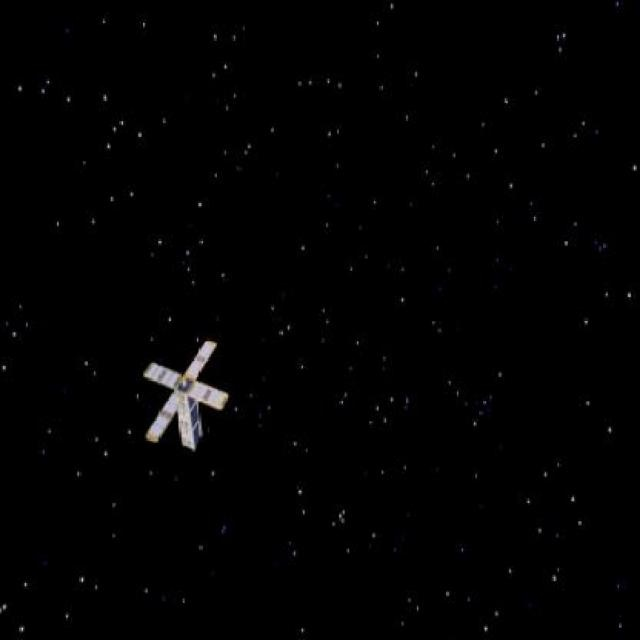satellite: (126, 338, 230, 450)
